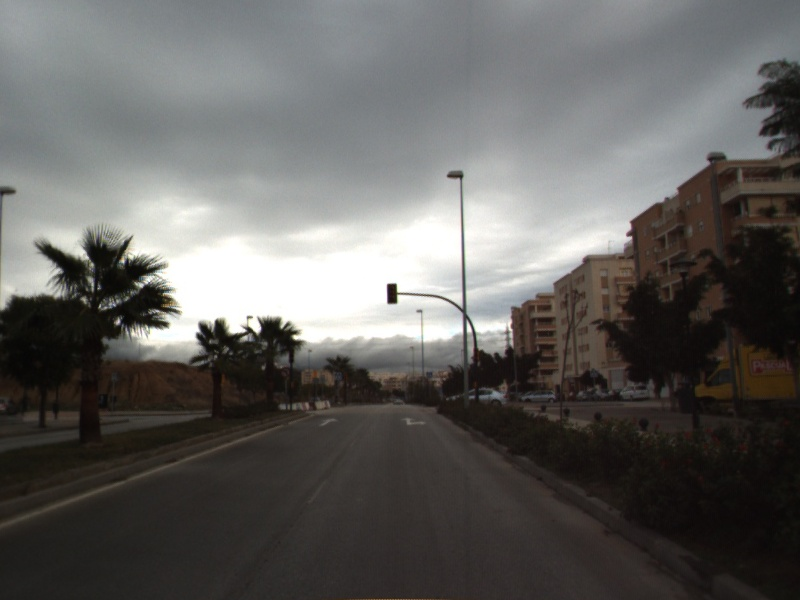STRAIGHT: (317, 416, 341, 428)
STRAIGHT_RIGHT: (399, 415, 429, 427)
